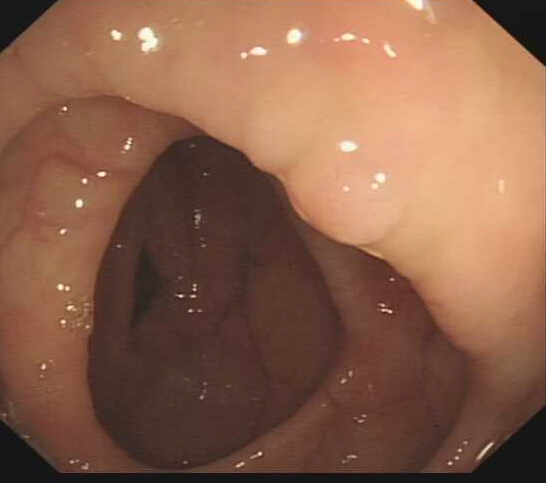adenoma: (280, 158, 403, 246)
